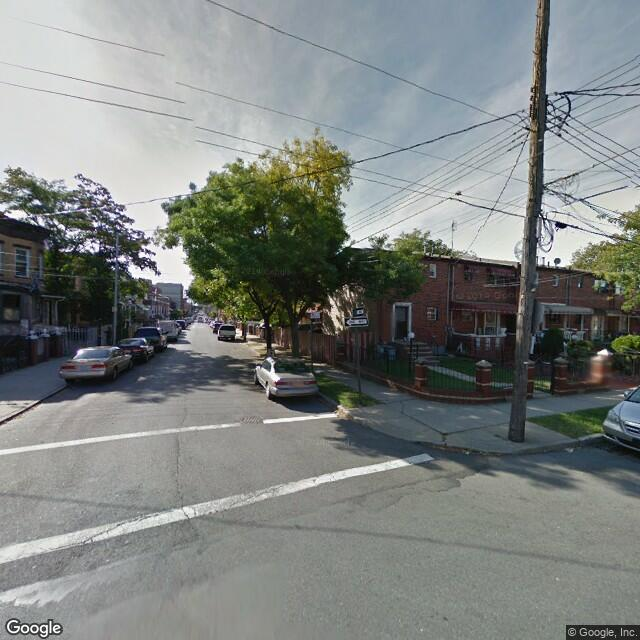litter: (564, 448, 579, 454), (462, 448, 471, 456), (540, 448, 546, 452)
